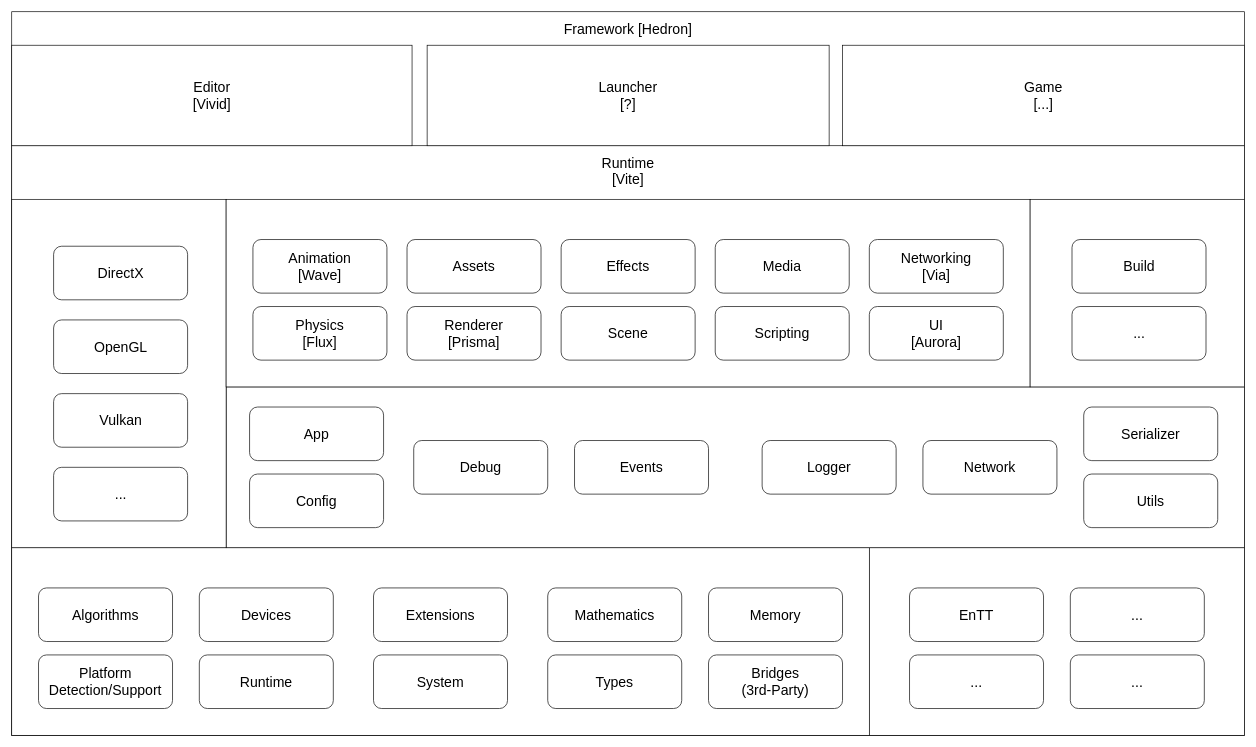
Image size: 1256x747. Some labels were removed from this diagram. The box of each missing label's shape, as (x1, y1, x2, y2) in pixels:
3rd-Party: (869, 547, 1245, 735)
Base: (11, 547, 869, 735)
Core: (225, 386, 1245, 548)
Engine: (225, 199, 1030, 387)
Platform: (11, 199, 226, 548)
Tools: (1029, 199, 1245, 387)
